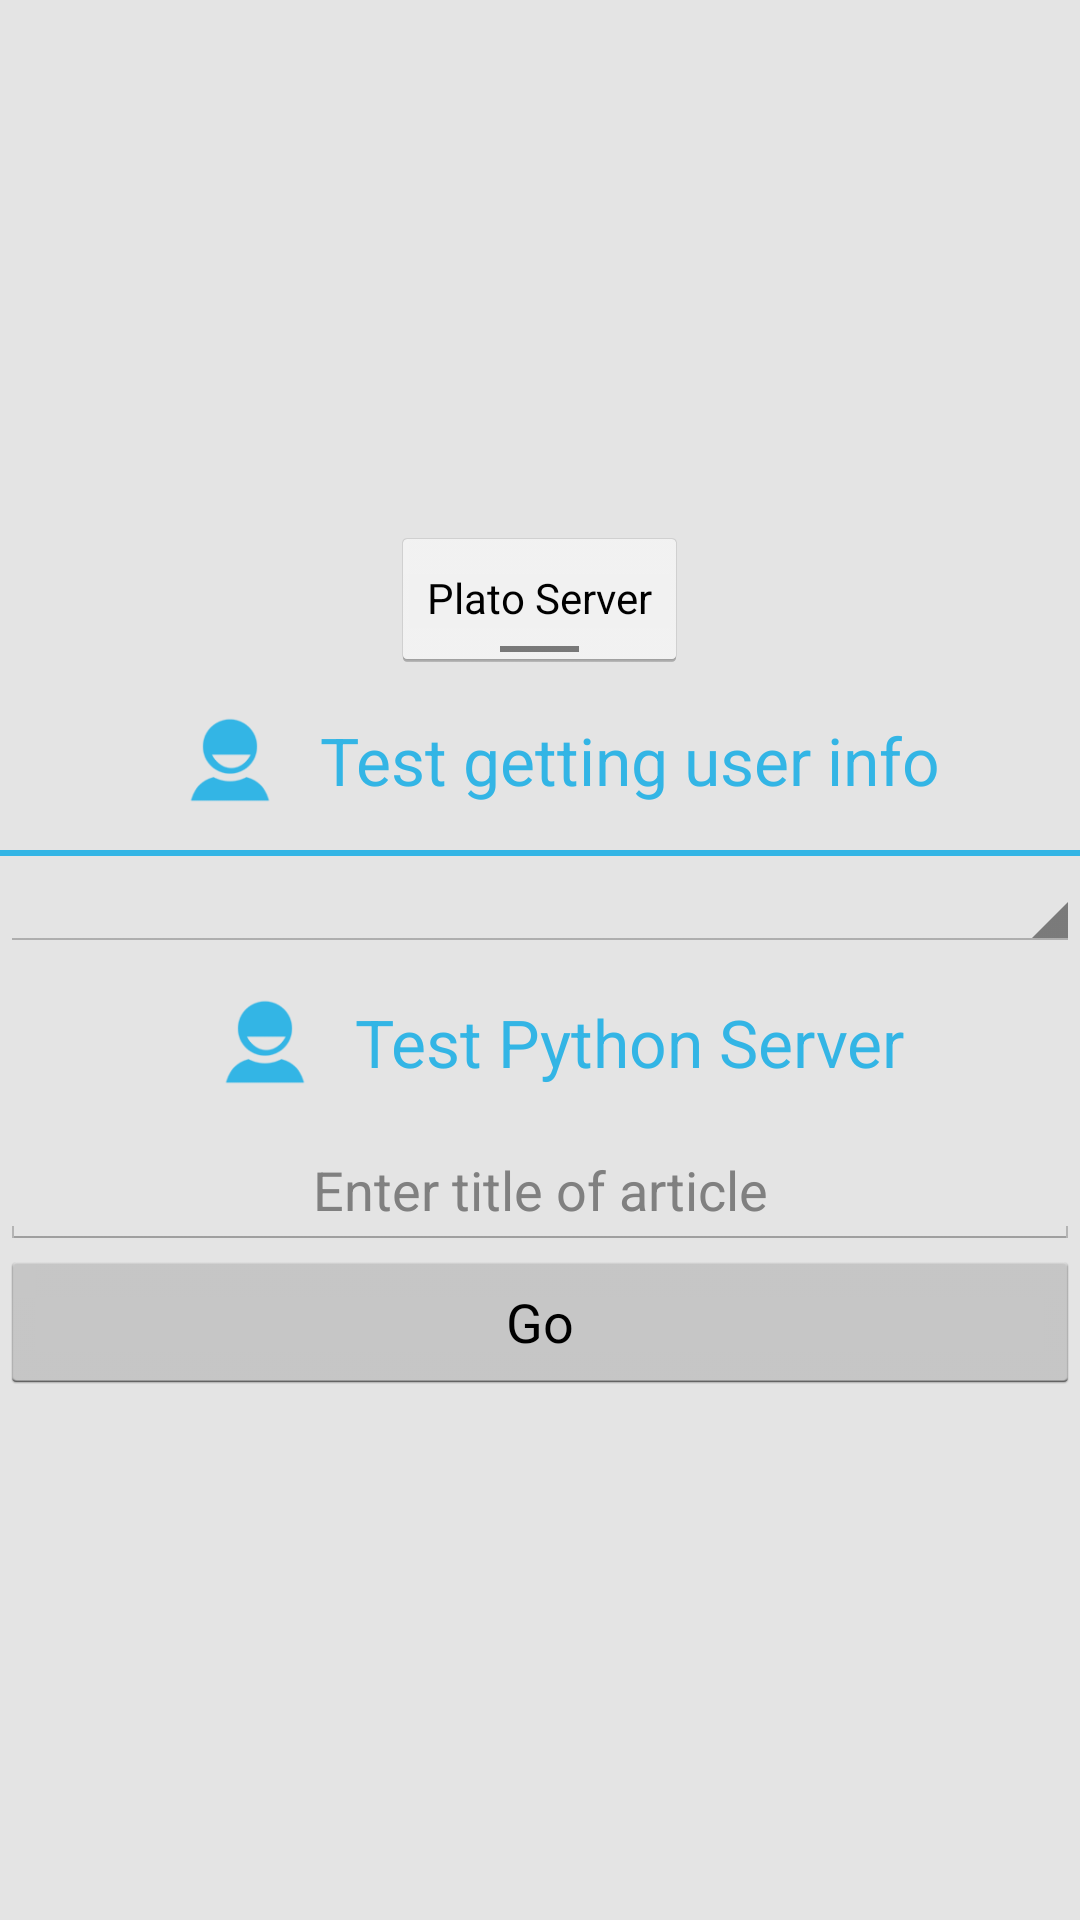

Icons on this 1080*1920 Android screen, each with its box as (x1, y1, x2, y2):
social person: (191, 719, 269, 801), (226, 1001, 304, 1083)
